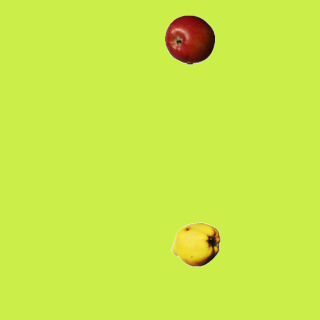Apple Braeburn: (164, 14, 214, 64)
Quince: (170, 219, 220, 269)
